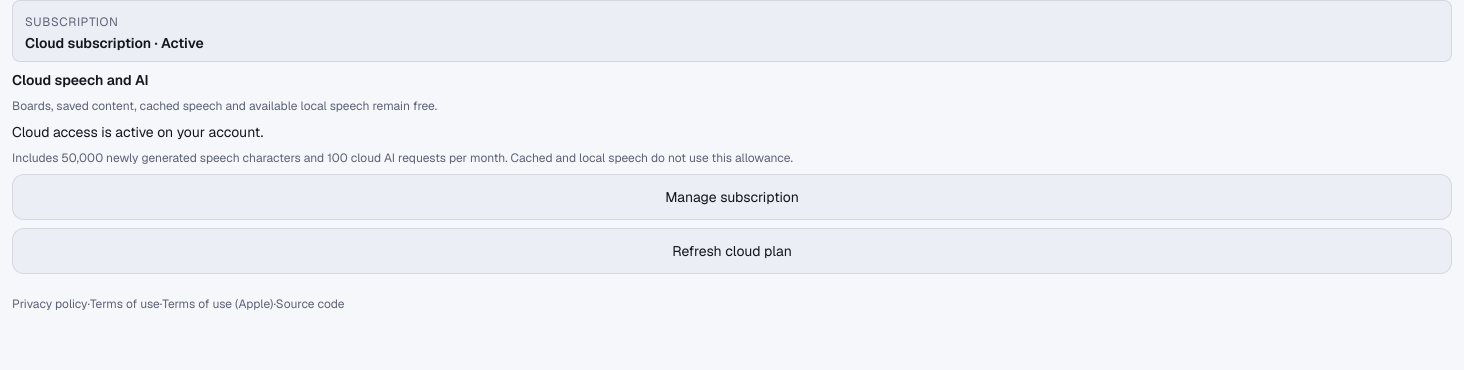
Test: AAC account purchase settings › shows verified apple access instead of the legacy Free plan
Expected: the text "Cloud subscription · Active" is shown, [25,34,204,52]
Click the button "Refresh cloud plan" at (732, 251), box [12,228,1452,274]
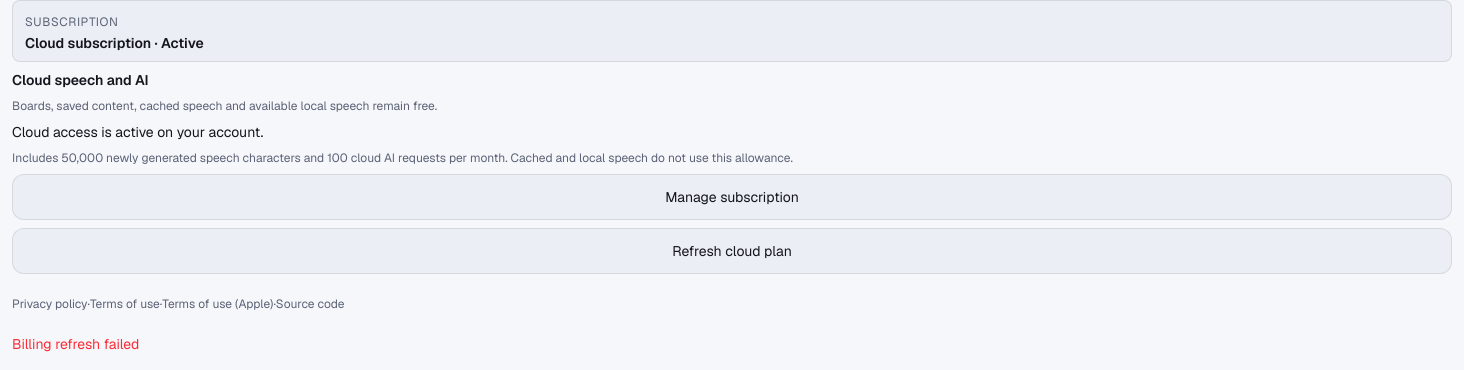
Expected: the text "Cloud subscription · Active" is shown, [25,34,204,52]
Result: the message "Billing refresh failed" is shown at [12,335,139,353]
